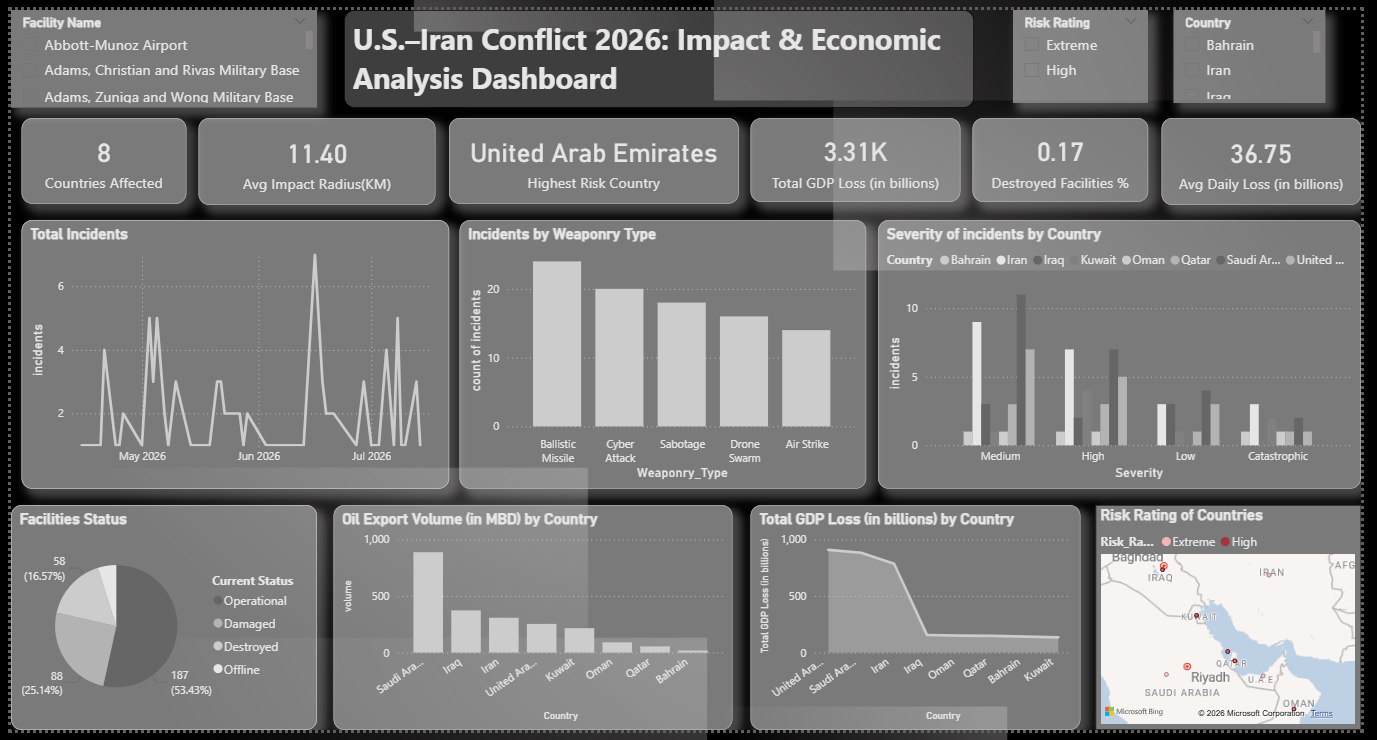

Layout of this report page (visuals, bound fields, positions):
{"tool":"powerbi","page":{"name":"Page 1","canvas":[1500,800],"ordinal":0},"visuals":[{"type":"card","fields":{"Values":["conflict_incidents_timeline.count of countries"]},"box":[11.7,120,183.3,95],"z":0},{"type":"card","fields":{"Values":["conflict_incidents_timeline.Avg Impact Radius(KM)"]},"box":[208.3,120,263.3,96.7],"z":1000},{"type":"card","fields":{"Values":["gulf_infrastructure_facilities.Damaged Facilities"]},"box":[1068.3,120,195,93.3],"z":2000},{"type":"card","fields":{"Values":["infrastructure_economic_impact.Total GDP Loss"]},"box":[821.7,120,233.3,93.3],"z":3000},{"type":"card","fields":{"Values":["infrastructure_economic_impact.Avg Daily Loss"]},"box":[1278.3,120,221.7,96.7],"z":4000},{"type":"card","fields":{"Values":["infrastructure_economic_impact.Highest Risk Country Name"]},"box":[486.7,120,321.7,95],"z":5000},{"type":"lineChart","title":"Total Incidents","fields":{"Category":["conflict_incidents_timeline.Date.Variation.Date Hierarchy.Year","conflict_incidents_timeline.Date.Variation.Date Hierarchy.Month","conflict_incidents_timeline.Date.Variation.Date Hierarchy.Day"],"Y":["conflict_incidents_timeline.count of incidents"]},"box":[11.7,233.3,475,298.3],"z":6000},{"type":"columnChart","title":"Incidents by Weaponry Type","fields":{"Category":["conflict_incidents_timeline.Weaponry_Type"],"Y":["conflict_incidents_timeline.count of incidents"]},"box":[498.3,233.3,451.7,298.3],"z":7000},{"type":"pieChart","title":"Facilities Status","fields":{"Y":["gulf_infrastructure_facilities.count of facilities"],"Category":["gulf_infrastructure_facilities.Current_War_Status"]},"box":[0,550,340,250],"z":8000},{"type":"areaChart","fields":{"Category":["infrastructure_economic_impact.Country"],"Y":["infrastructure_economic_impact.Total GDP Loss (in billions)"]},"box":[821.7,550,366.7,250],"z":9000},{"type":"map","title":"Risk Rating of Countries","fields":{"Category":["infrastructure_economic_impact.Country"],"Series":["infrastructure_economic_impact.Risk_Rating"]},"box":[1205,550,295,250],"z":10000},{"type":"clusteredColumnChart","title":"Severity of incidents by Country","fields":{"Y":["conflict_incidents_timeline.count of incidents"],"Category":["conflict_incidents_timeline.Severity"],"Series":["conflict_incidents_timeline.Country"]},"box":[963.3,233.3,536.7,298.3],"z":11000},{"type":"clusteredColumnChart","title":"Oil Export Volume (in MBD) by Country","fields":{"Y":["Sum(infrastructure_economic_impact.Oil_Export_Volume_MBD)"],"Category":["infrastructure_economic_impact.Country"]},"box":[358.3,550,443.3,250],"z":12000},{"type":"textbox","box":[370,0,700,108.3],"z":13000},{"type":"slicer","fields":{"Values":["gulf_infrastructure_facilities.Facility_Name"]},"box":[0,0,340,108.3],"z":14000},{"type":"slicer","fields":{"Values":["infrastructure_economic_impact.Risk_Rating"]},"box":[1113.3,0,150,103.3],"z":15000},{"type":"slicer","fields":{"Values":["gulf_infrastructure_facilities.Country"]},"box":[1291.7,0,168.3,103.3],"z":16000}]}

Visuals, with their boxes in screenshot pixels (x1, y1, x2, y2), scaled from the page's 1500x800 canvas onto the 1377x740 screenshot:
card - conflict_incidents_timeline.count of countries: [11,111,179,199]
card - conflict_incidents_timeline.Avg Impact Radius(KM): [191,111,433,200]
card - gulf_infrastructure_facilities.Damaged Facilities: [981,111,1160,197]
card - infrastructure_economic_impact.Total GDP Loss: [754,111,968,197]
card - infrastructure_economic_impact.Avg Daily Loss: [1173,111,1376,200]
card - infrastructure_economic_impact.Highest Risk Country Name: [447,111,742,199]
"Total Incidents" lineChart: [11,216,447,492]
"Incidents by Weaponry Type" columnChart: [457,216,872,492]
"Facilities Status" pieChart: [0,509,312,739]
areaChart - infrastructure_economic_impact.Country x infrastructure_economic_impact.Total GDP Loss (in billions): [754,509,1091,739]
"Risk Rating of Countries" map: [1106,509,1376,739]
"Severity of incidents by Country" clusteredColumnChart: [884,216,1376,492]
"Oil Export Volume (in MBD) by Country" clusteredColumnChart: [329,509,736,739]
textbox: [340,0,982,100]
slicer - gulf_infrastructure_facilities.Facility_Name: [0,0,312,100]
slicer - infrastructure_economic_impact.Risk_Rating: [1022,0,1160,96]
slicer - gulf_infrastructure_facilities.Country: [1186,0,1340,96]
